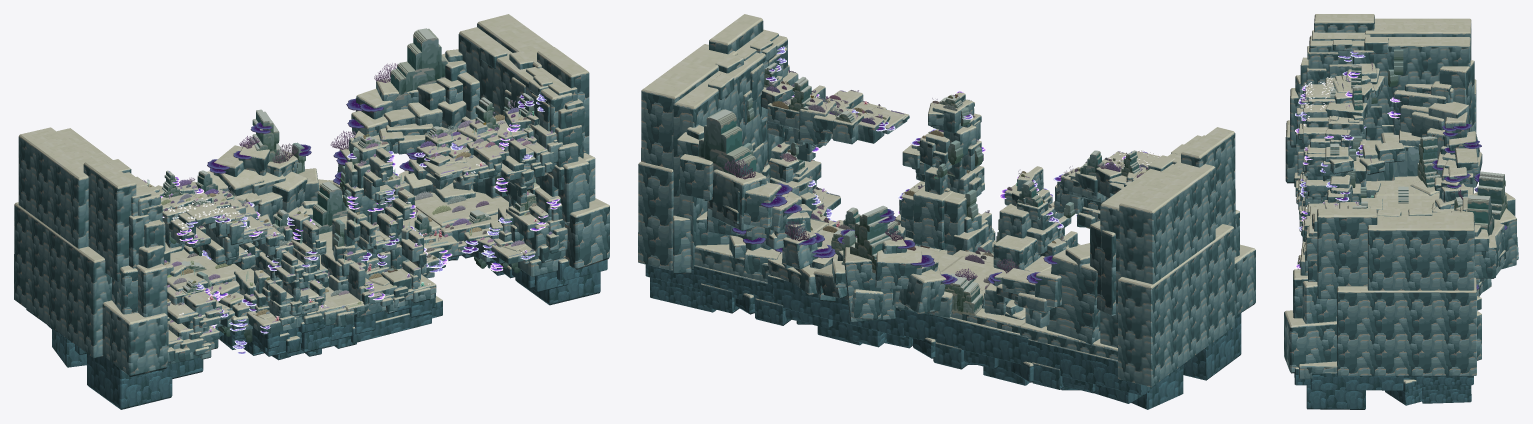
3 views of the same model, side by side, from view 1: azimuth 30°, elevation 25°; view 2: azimuth 150°, elevation 25°; view 3: azimuth 270°, elevation 25° (orthographic). The views are drawn at different scales.
Size of the model in its own units: 151 by 63.61 by 70.27.
Materials: 29 (29 with a texture image).
